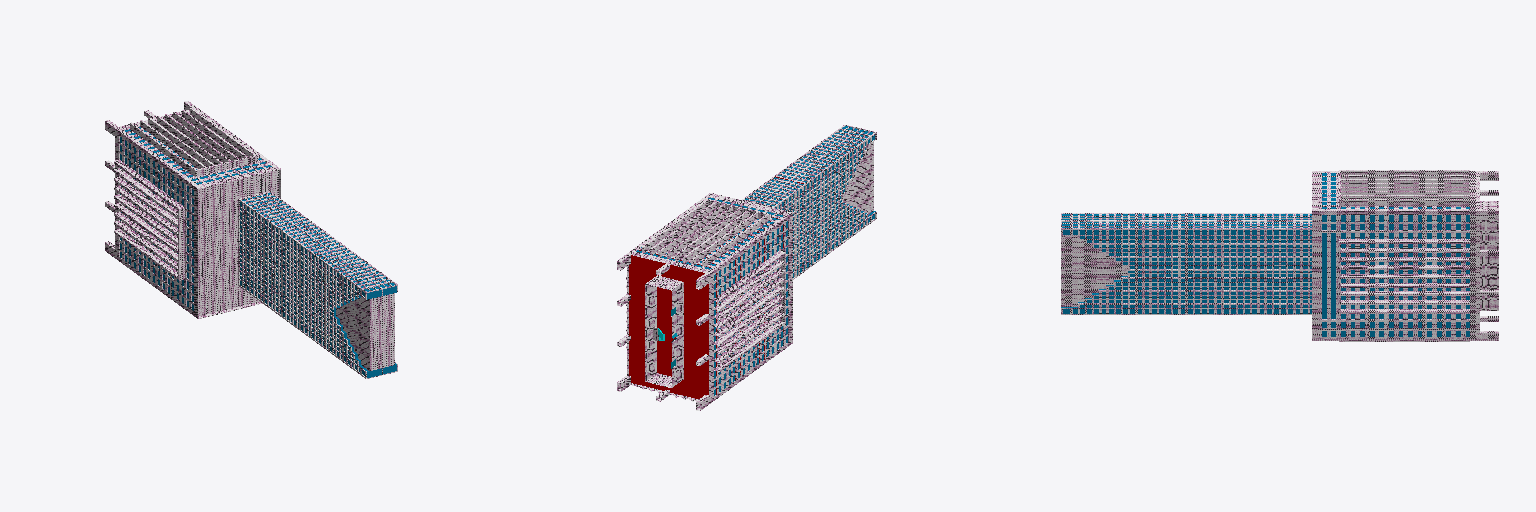
3 renders of one model, left to right at view 1: azimuth 30°, elevation 25°; view 2: azimuth 150°, elevation 25°; view 3: azimuth 270°, elevation 25°, orthographic.
Parts seen in each view (by area): view 1: Wall_39, Wall_05, Glass_01, Wall_01, Wall_02, Wall_04, Glass_02, Wall_08, Wall_38, Wall_37, Wall_03; view 2: Wall_05, Slab_01, Wall_01, Glass_01, Wall_39, Wall_02, Wall_04, wall_2_02, Wall_03, wall_2_01, Wall_08, Glass_02; view 3: Glass_01, Wall_05, Wall_01, Wall_02, Wall_39, Glass_02, Wall_04, Wall_08, wall_2_02, Wall_03, Wall_38, Wall_09.
Boxes of the visible parts, box(x1,y1,x2,y2) form: Wall_39: box(119, 126, 394, 370); Wall_05: box(114, 108, 256, 279); Glass_01: box(120, 127, 356, 348); Wall_01: box(115, 108, 280, 318); Wall_02: box(238, 191, 360, 350); Wall_04: box(119, 111, 275, 315); Glass_02: box(330, 259, 396, 377); Wall_08: box(239, 192, 397, 378); Wall_38: box(245, 193, 391, 290); Wall_37: box(332, 259, 397, 378); Wall_03: box(105, 101, 196, 257); Wall_05: box(626, 199, 785, 401); Slab_01: box(629, 176, 803, 398); Wall_01: box(627, 193, 792, 403); Glass_01: box(636, 154, 837, 395); Wall_39: box(665, 142, 873, 381); Wall_02: box(744, 152, 839, 277); Wall_04: box(632, 196, 788, 400); wall_2_02: box(645, 279, 678, 387); Wall_03: box(617, 254, 708, 410); wall_2_01: box(652, 275, 683, 382); Wall_08: box(742, 125, 876, 279); Glass_02: box(811, 126, 875, 242); Glass_01: box(1138, 173, 1469, 336); Wall_05: box(1339, 170, 1469, 341); Wall_01: box(1312, 171, 1479, 340); Wall_02: box(1135, 213, 1309, 314); Wall_39: box(1061, 236, 1127, 306); Glass_02: box(1061, 214, 1134, 313); Wall_04: box(1322, 171, 1469, 340); Wall_08: box(1061, 213, 1311, 314); wall_2_02: box(1485, 201, 1498, 310); Wall_03: box(1480, 171, 1498, 340); Wall_38: box(1062, 216, 1311, 226); Wall_09: box(1078, 239, 1311, 304).
Bounding box in the file's own units: 1368 × 1968 × 5490.
5 materials, 1 textured.